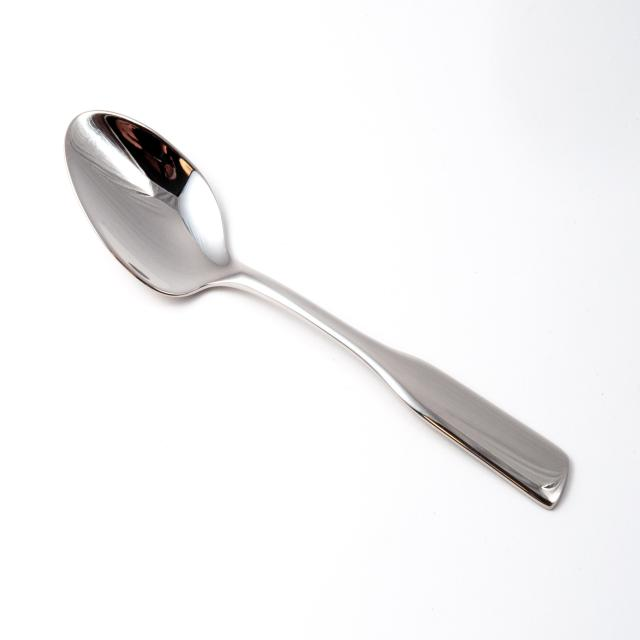spoon: (49, 75, 575, 516)
